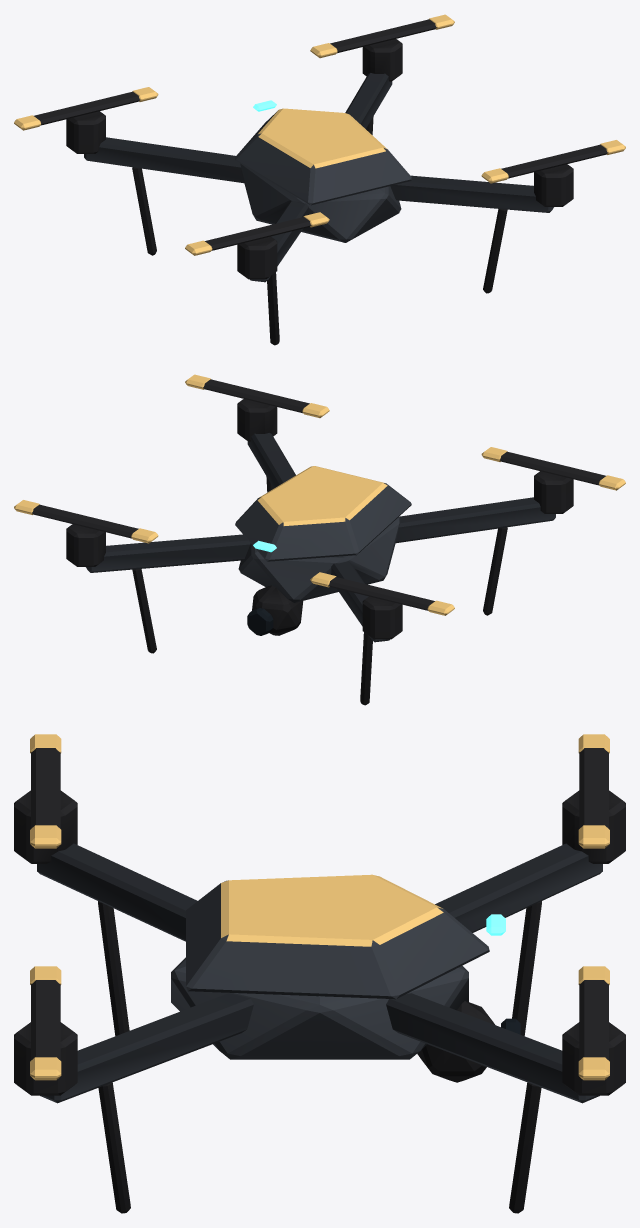
The model's file is drone.glb.
3 views of the same model, one above another, from view 1: azimuth 30°, elevation 25°; view 2: azimuth 150°, elevation 25°; view 3: azimuth 270°, elevation 25° (orthographic). The views are drawn at different scales.
Parts seen in each view (by area): view 1: drone, Rotor3, Rotor, Rotor4, Rotor2; view 2: drone, Rotor2, Rotor4, Rotor, Rotor3; view 3: drone, Rotor, Rotor4, Rotor2, Rotor3.
Part boxes in pixels (x1,y1,x2,y2): drone: (66, 39, 573, 345); Rotor3: (185, 212, 329, 255); Rotor: (310, 14, 454, 58); Rotor4: (481, 140, 625, 183); Rotor2: (14, 87, 158, 130); drone: (66, 399, 573, 705); Rotor2: (310, 572, 454, 615); Rotor4: (185, 374, 329, 418); Rotor: (14, 500, 158, 543); Rotor3: (481, 447, 625, 490); drone: (14, 790, 625, 1213); Rotor: (578, 966, 609, 1080); Rotor4: (30, 966, 61, 1080); Rotor2: (578, 734, 609, 848); Rotor3: (30, 734, 61, 848).
Bounding box in the file's own units: 0.82 × 0.2566 × 0.625.
